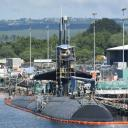submarine: (9, 8, 116, 121)
